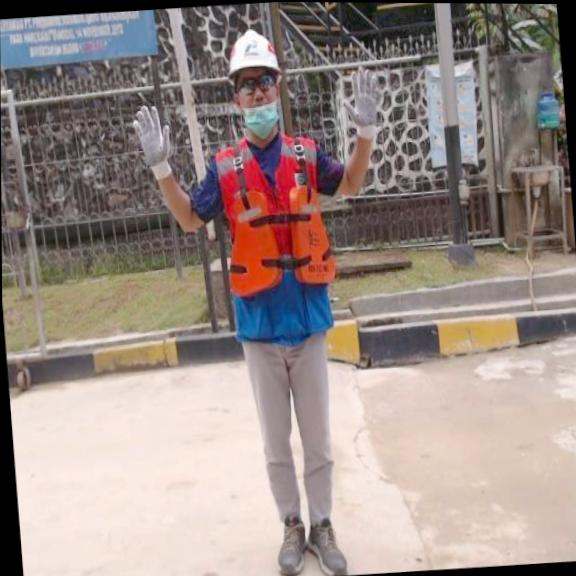safety_vest: (222, 180, 337, 292)
